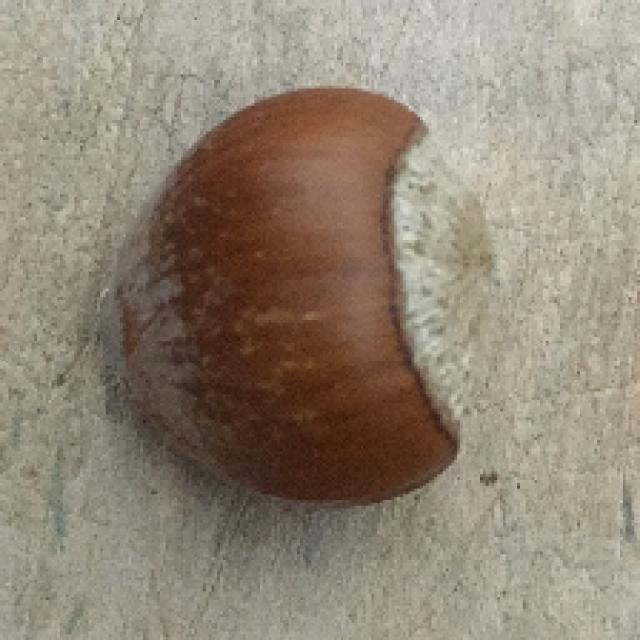QualityHazelnut: (104, 83, 504, 510)
